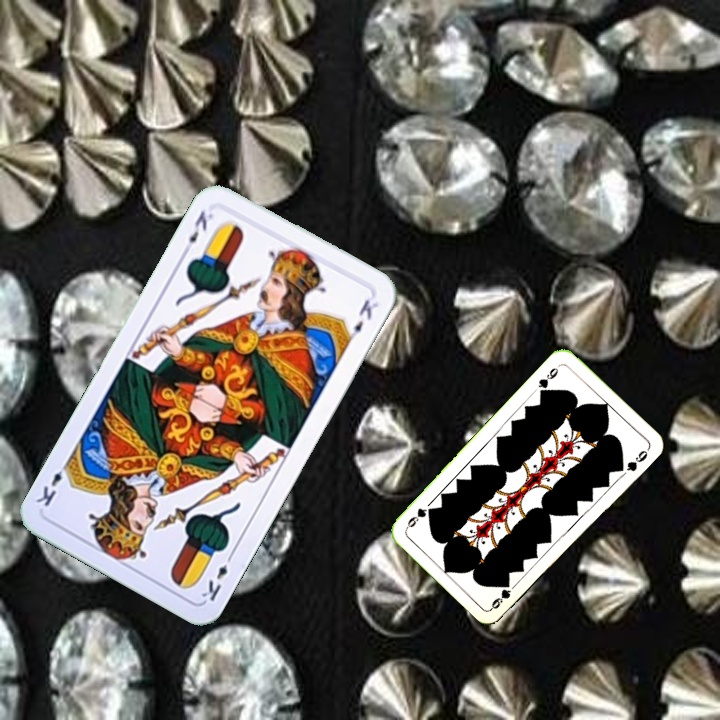EK: (197, 548, 237, 604), (178, 206, 216, 257)
G9: (534, 361, 563, 397), (487, 585, 513, 612)
